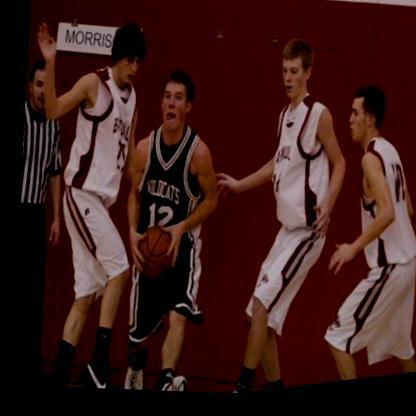basketball: (125, 222, 175, 288)
